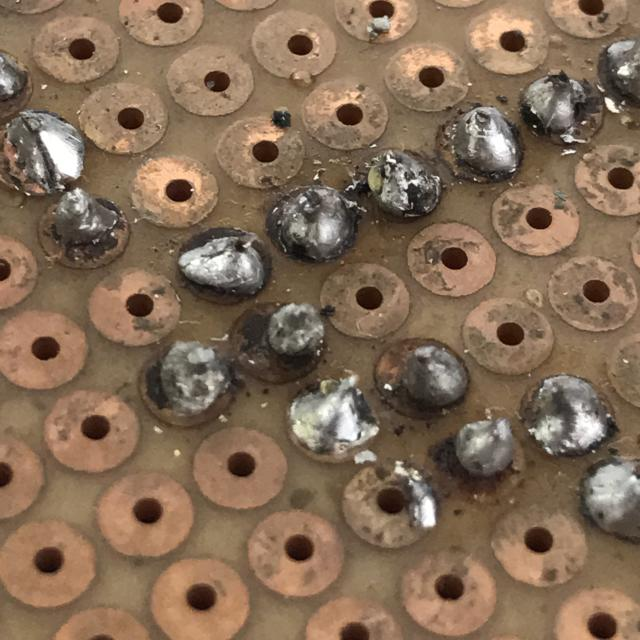pad_less: (133, 333, 245, 435), (279, 373, 388, 473), (224, 293, 332, 392), (368, 330, 476, 428), (30, 183, 139, 280), (170, 218, 278, 312), (0, 98, 91, 208), (259, 175, 365, 269), (430, 100, 530, 190), (350, 142, 448, 228), (441, 414, 532, 506), (516, 68, 612, 151)
